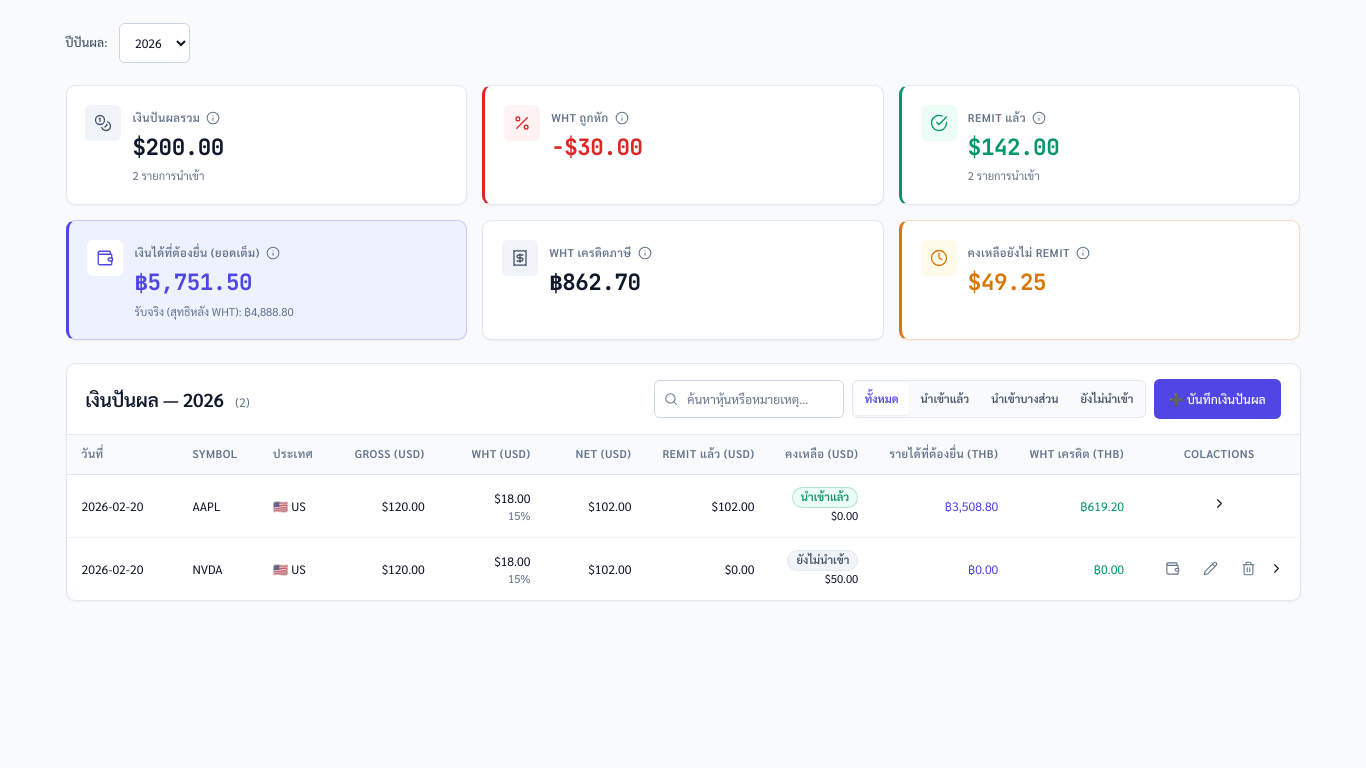
DividendTab layout balance & stacked WHT cell › filters dividend rows by remittance status pill and search input
Check: the number of rows with class "trade-row" is 2, box [66,474,1300,537]; [66,537,1300,600]
Click the button "ยังไม่นำเข้า" at [1107, 399], box [1070,383,1143,415]
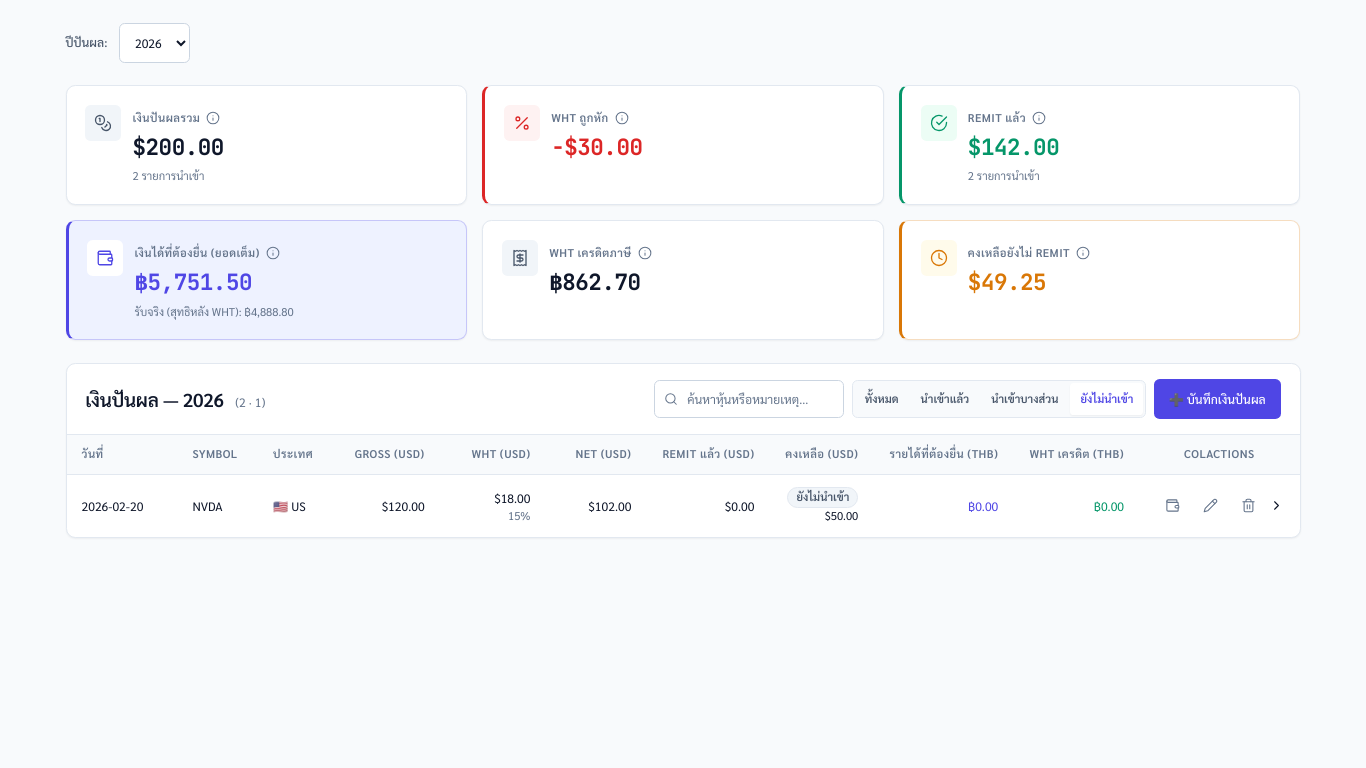
Check: the table shows "NVDA", box [192,498,222,514]
Check: the number of rows with class "trade-row" is 1, box [66,474,1300,537]
Click the button "ทั้งหมด" at [882, 399], box [855,383,909,415]
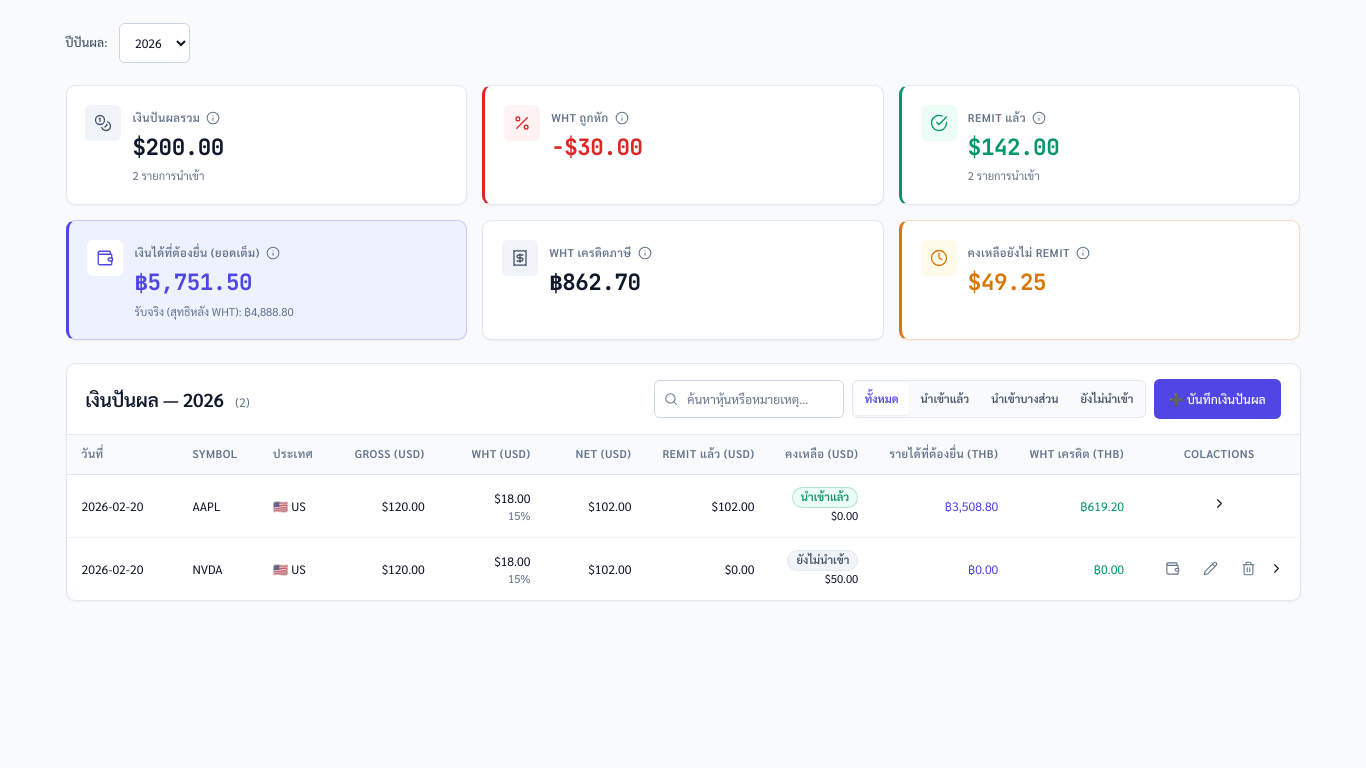
Type "aapl" into the search field with placeholder "ค้นหาหุ้นหรือหมายเหตุ..." at [749, 399], box [654,380,844,418]
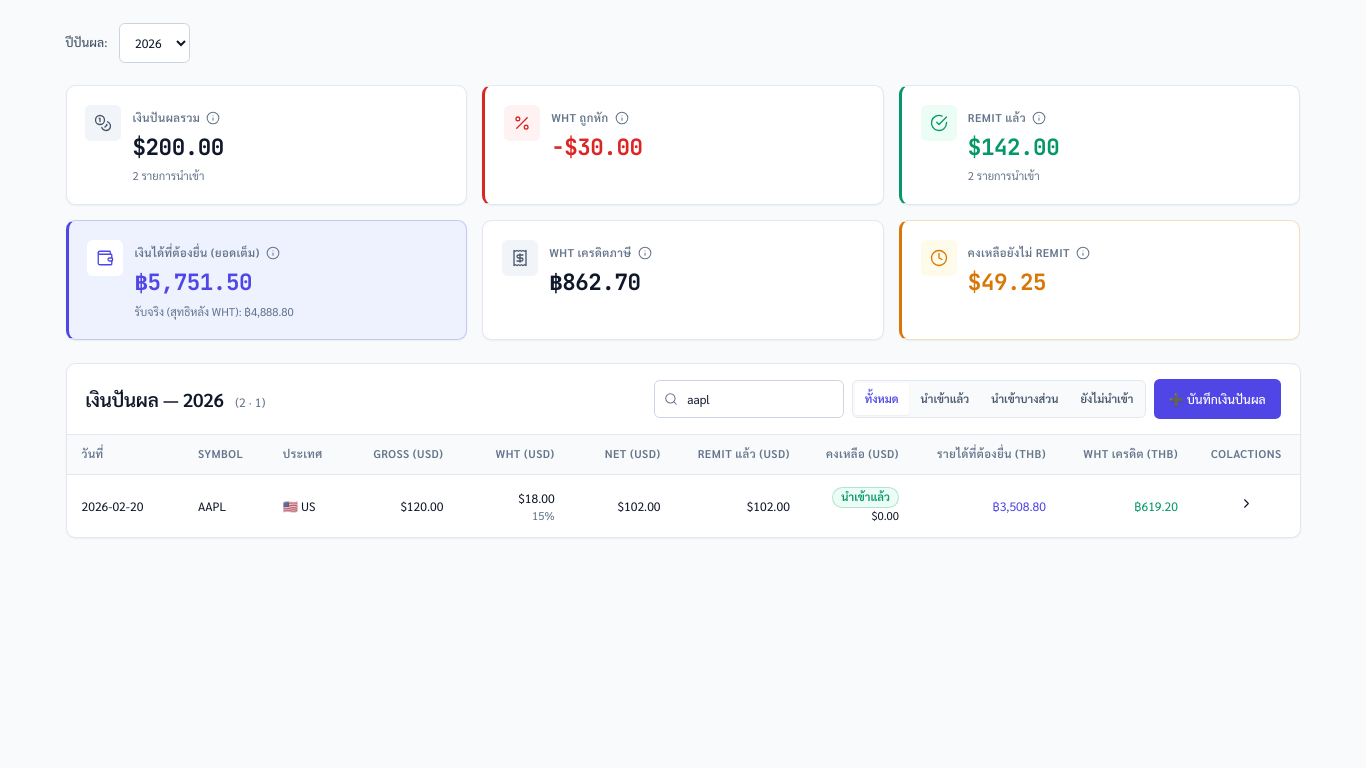
Check: the table shows "AAPL", box [198,498,226,514]
Check: the number of rows with class "trade-row" is 1, box [66,474,1300,537]
